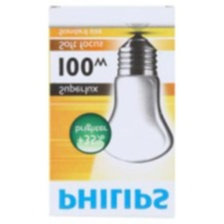book: (43, 4, 177, 220)
